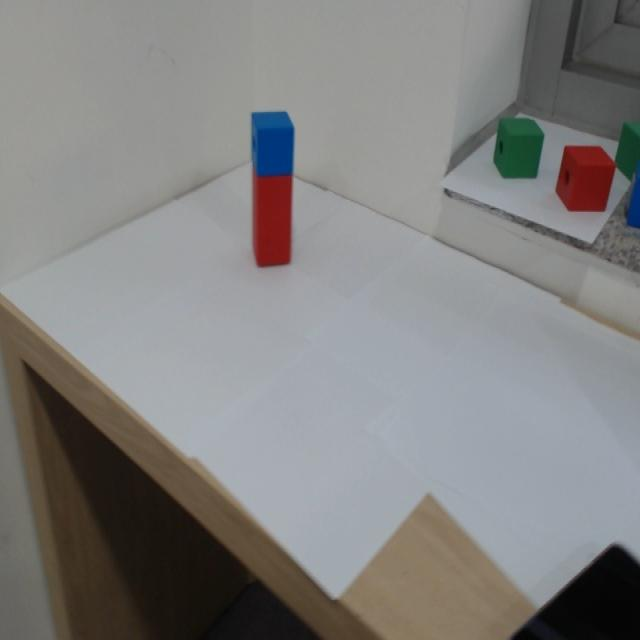cube: (243, 104, 302, 173)
